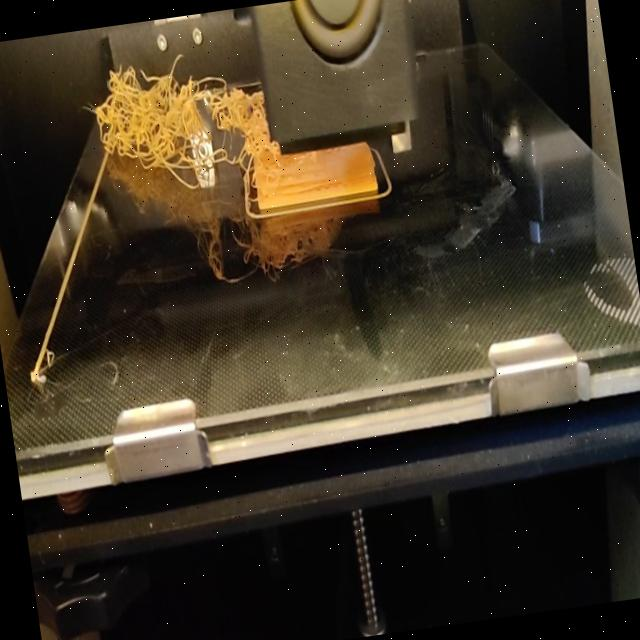spaghetti: (84, 39, 281, 212)
